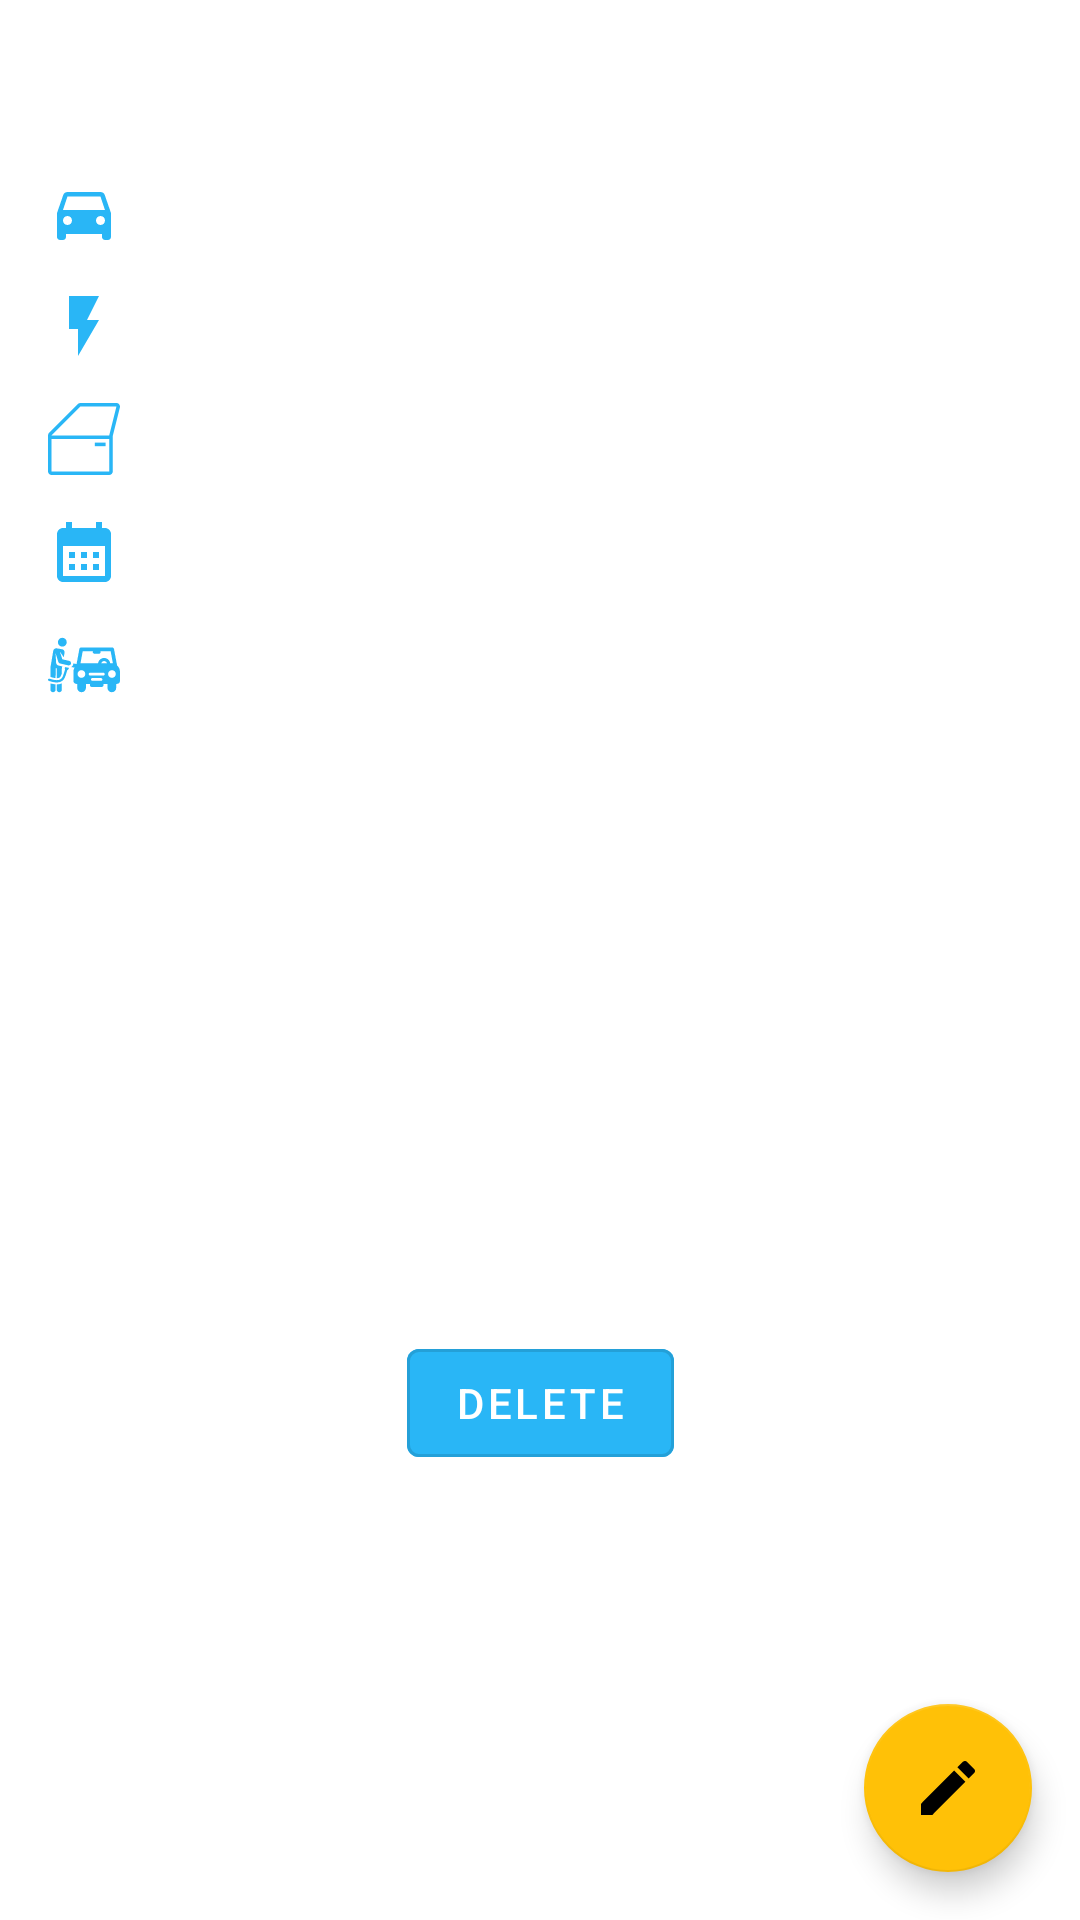

Named icons in this screenshot (1080×1920) and their bounding boxes, (x1, y1, x2, y2):
calendar: (57, 522, 111, 582)
car: (57, 192, 111, 240)
edit: (864, 1704, 1032, 1872)
flash: (69, 296, 99, 356)
